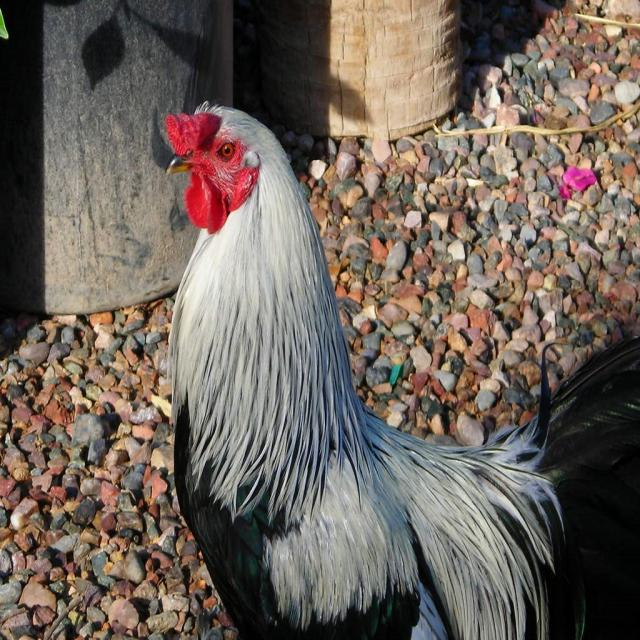Chicken: (163, 94, 618, 617)
